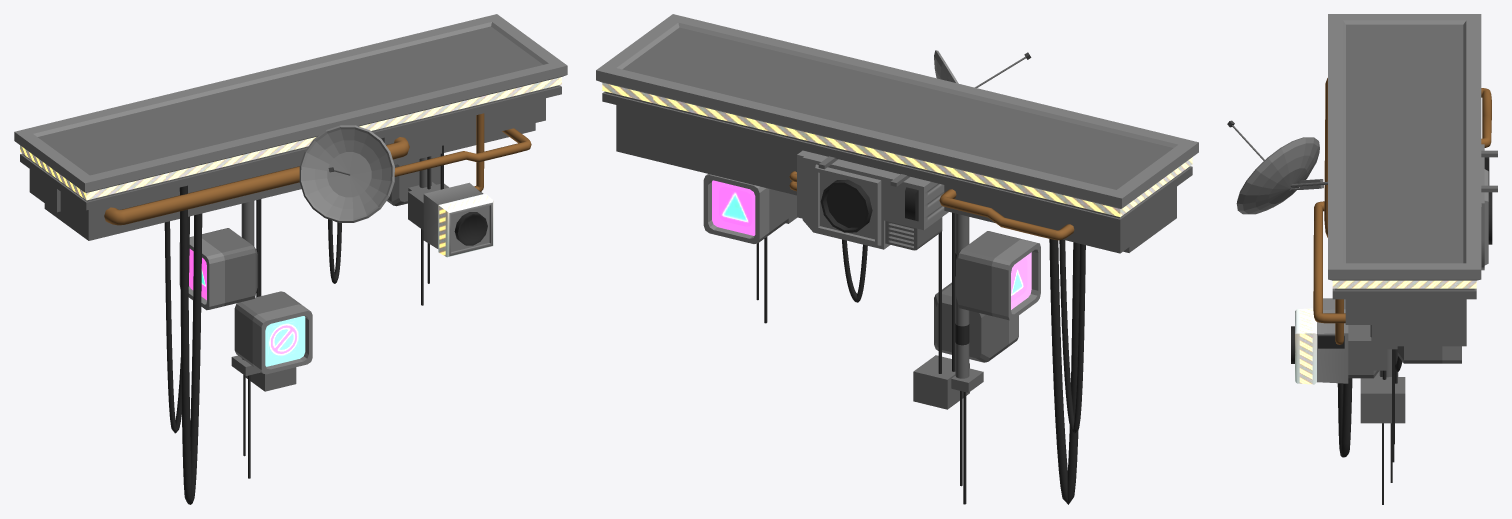
Rendered from Platform_4x1.glb.
The picture shows the model from 3 angles, left to right: view 1: azimuth 30°, elevation 25°; view 2: azimuth 150°, elevation 25°; view 3: azimuth 270°, elevation 25°; orthographic projection. The views are drawn at different scales.
Parts seen in each view (by area): view 1: Platform_4x1; view 2: Platform_4x1; view 3: Platform_4x1.
Boxes of the visible parts, bbox=[...] form: Platform_4x1: bbox=[14, 14, 567, 504]; Platform_4x1: bbox=[596, 14, 1198, 504]; Platform_4x1: bbox=[1227, 14, 1497, 504].
Bounding box in the file's own units: 3.86 × 2.81 × 1.73.
